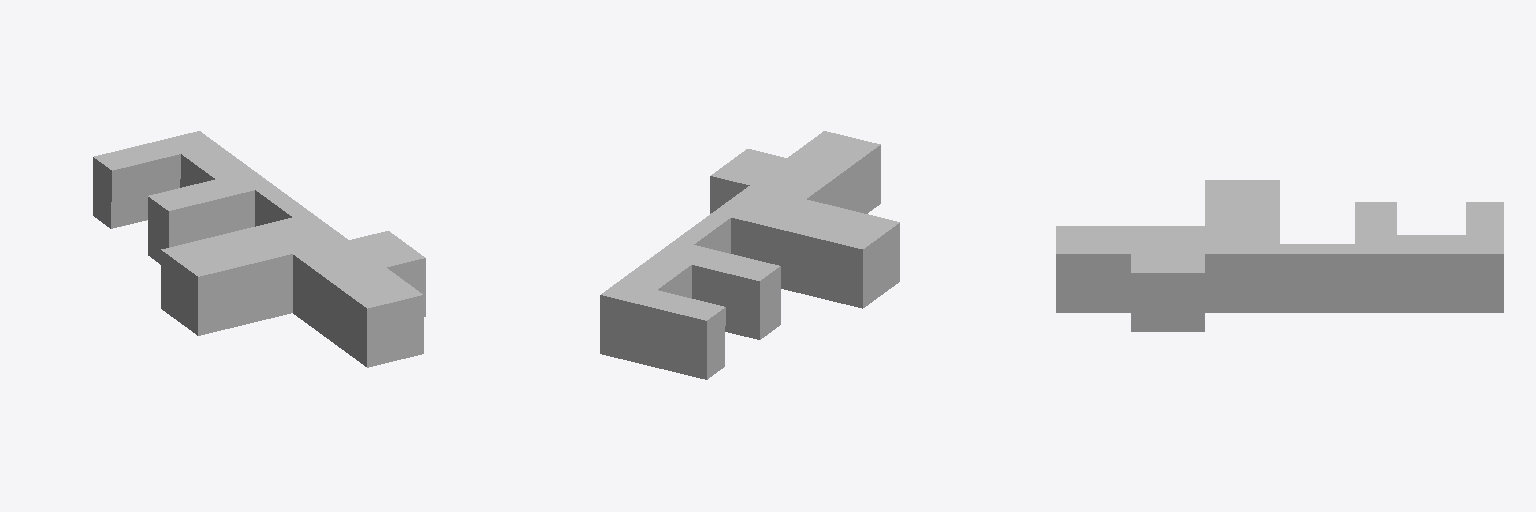
The model's file is woodard3.obj.
3 renders of one model, left to right at view 1: azimuth 30°, elevation 25°; view 2: azimuth 150°, elevation 25°; view 3: azimuth 270°, elevation 25°, orthographic.
Visible parts, largest first — view 1: Cube; view 2: Cube; view 3: Cube.
Boxes of the visible parts, x1=… form: Cube: x1=93, y1=131, x2=425, y2=367; Cube: x1=600, y1=131, x2=899, y2=379; Cube: x1=1056, y1=180, x2=1503, y2=331.
Bounding box in the file's own units: 6.73 × 2 × 13.75.